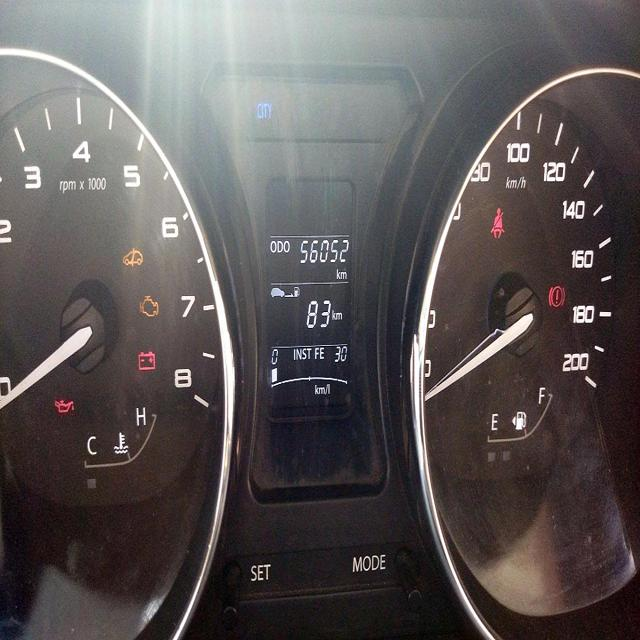odometer: (300, 235, 350, 266)
